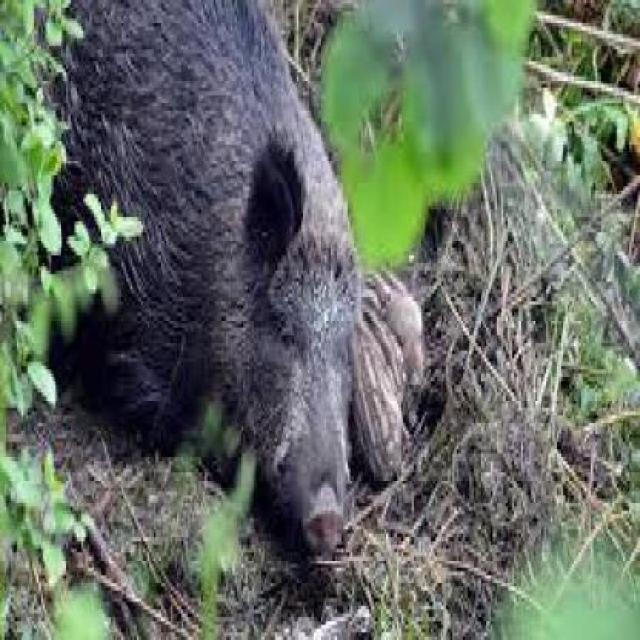wildboar: (0, 0, 366, 563), (328, 246, 428, 492)
